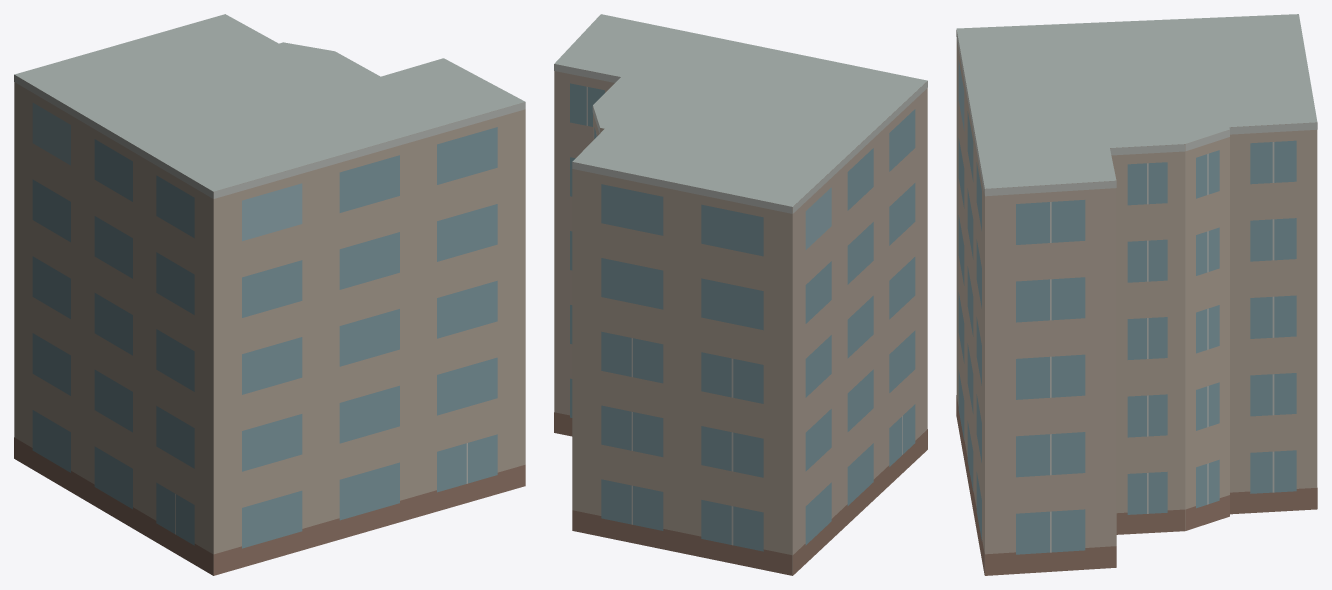
File: survey-upis-32999592.glb
The picture shows the model from 3 angles, left to right: view 1: azimuth 30°, elevation 25°; view 2: azimuth 150°, elevation 25°; view 3: azimuth 270°, elevation 25°; orthographic projection. The views are drawn at different scales.
Parts seen in each view (by area): view 1: survey-upis-32999592.tmp; view 2: survey-upis-32999592.tmp; view 3: survey-upis-32999592.tmp.
Part boxes in pixels (x1,y1,x2,y2): survey-upis-32999592.tmp: (14,14,525,575); survey-upis-32999592.tmp: (554,14,927,575); survey-upis-32999592.tmp: (956,14,1317,575).
Size of the model in its own units: 12.31 by 12.7 by 10.75.
